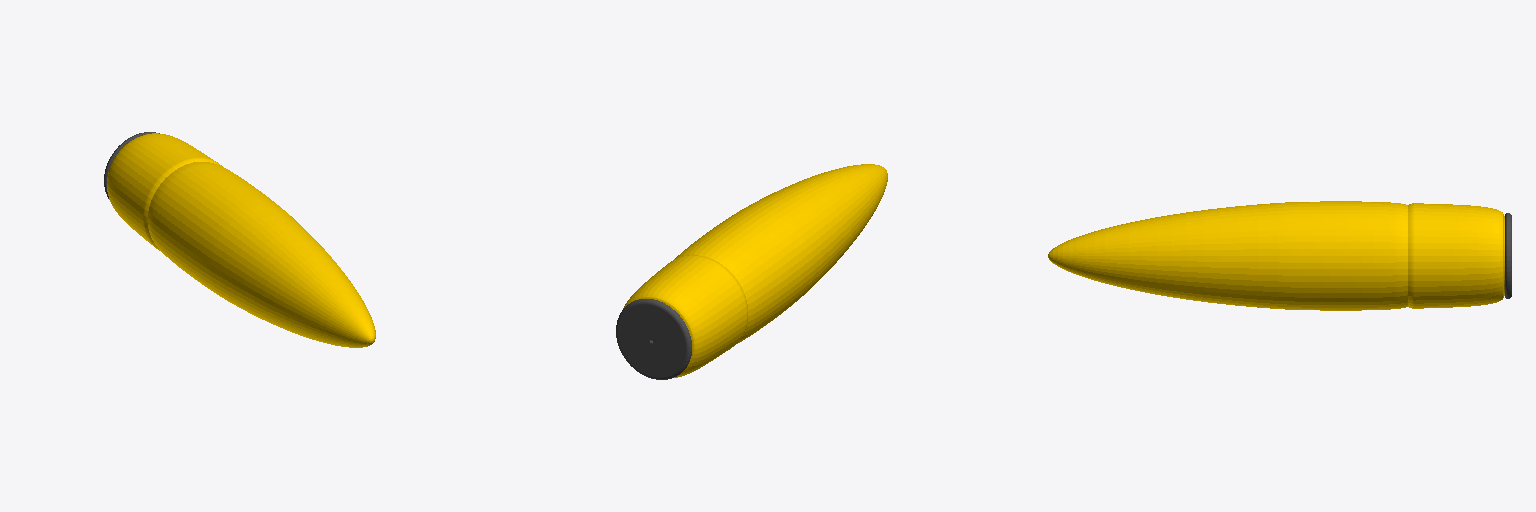
The model's file is bullet.obj.
3 renders of one model, left to right at view 1: azimuth 30°, elevation 25°; view 2: azimuth 150°, elevation 25°; view 3: azimuth 270°, elevation 25°, orthographic.
Visible parts, largest first — view 1: Linie01; view 2: Linie01; view 3: Linie01.
Part boxes in pixels (bbox=[...]): Linie01: bbox=[104, 132, 375, 347]; Linie01: bbox=[616, 164, 887, 379]; Linie01: bbox=[1048, 201, 1511, 310].
Size of the model in its own units: 0.3812 by 0.382 by 1.62.